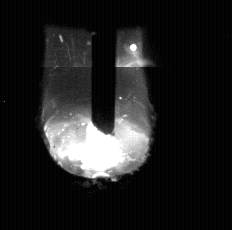arame: (93, 0, 116, 137)
poca: (44, 0, 149, 230)
